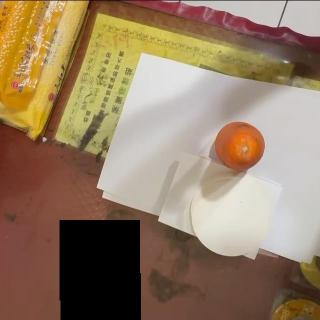carrot: (215, 121, 265, 171)
